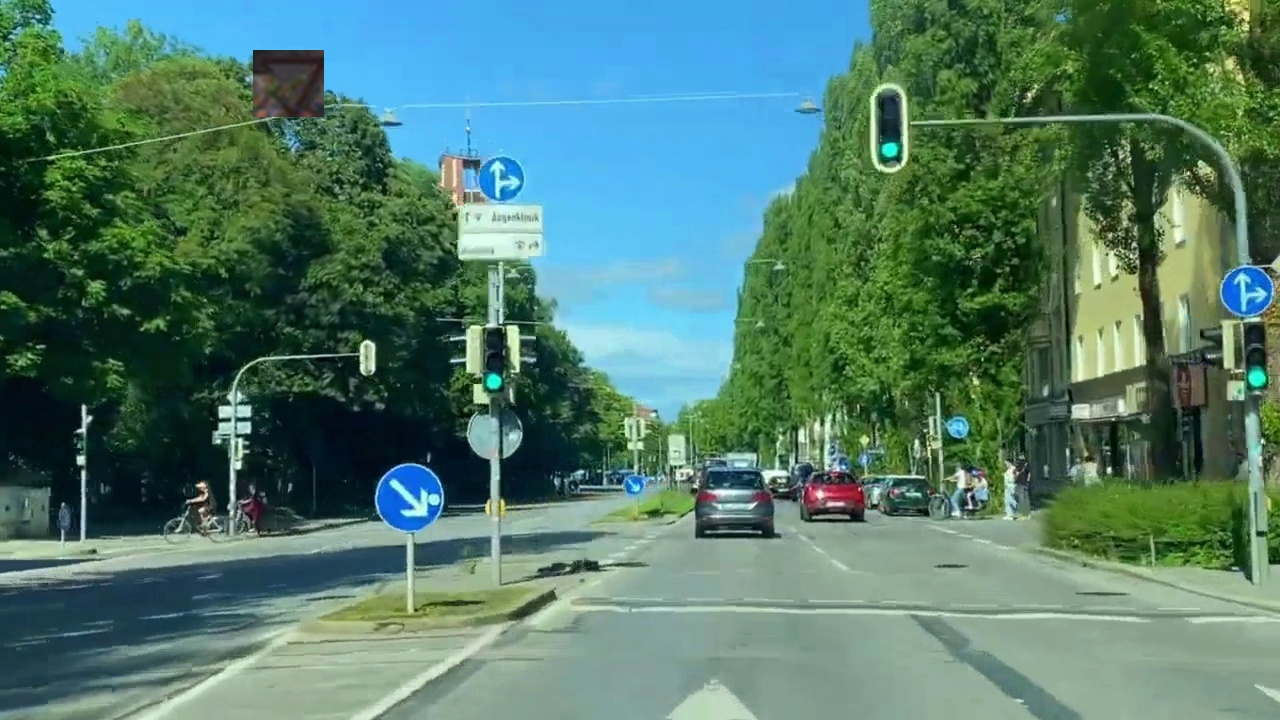Yield: (253, 50, 324, 117)
